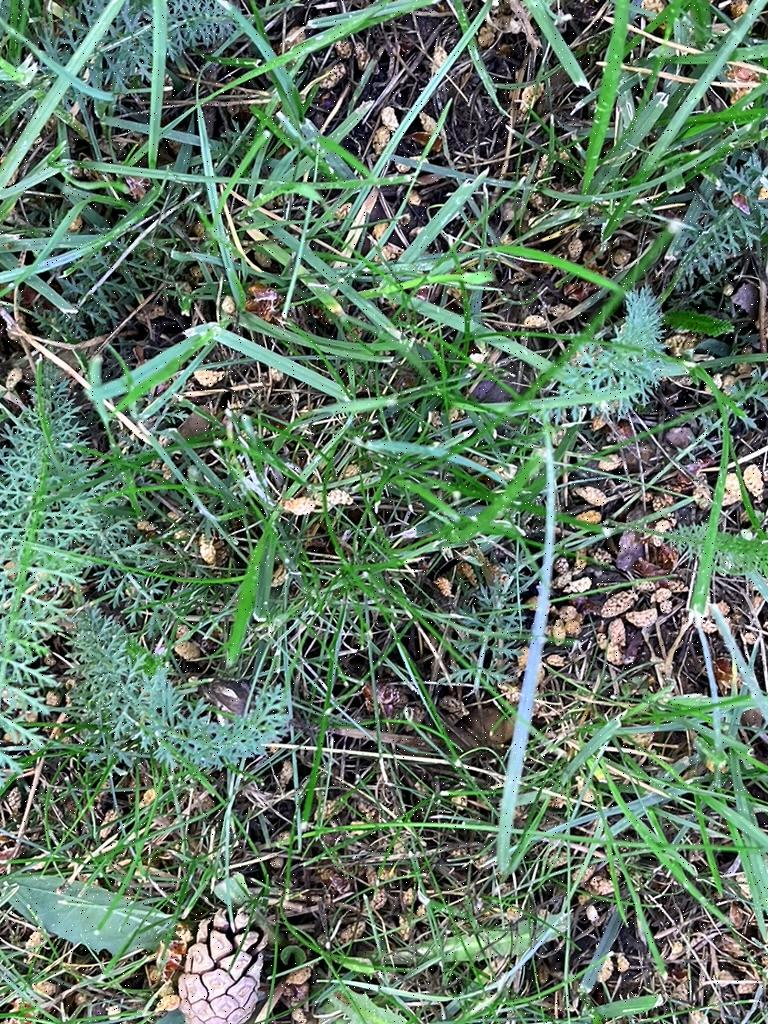pine: (171, 888, 276, 1024)
